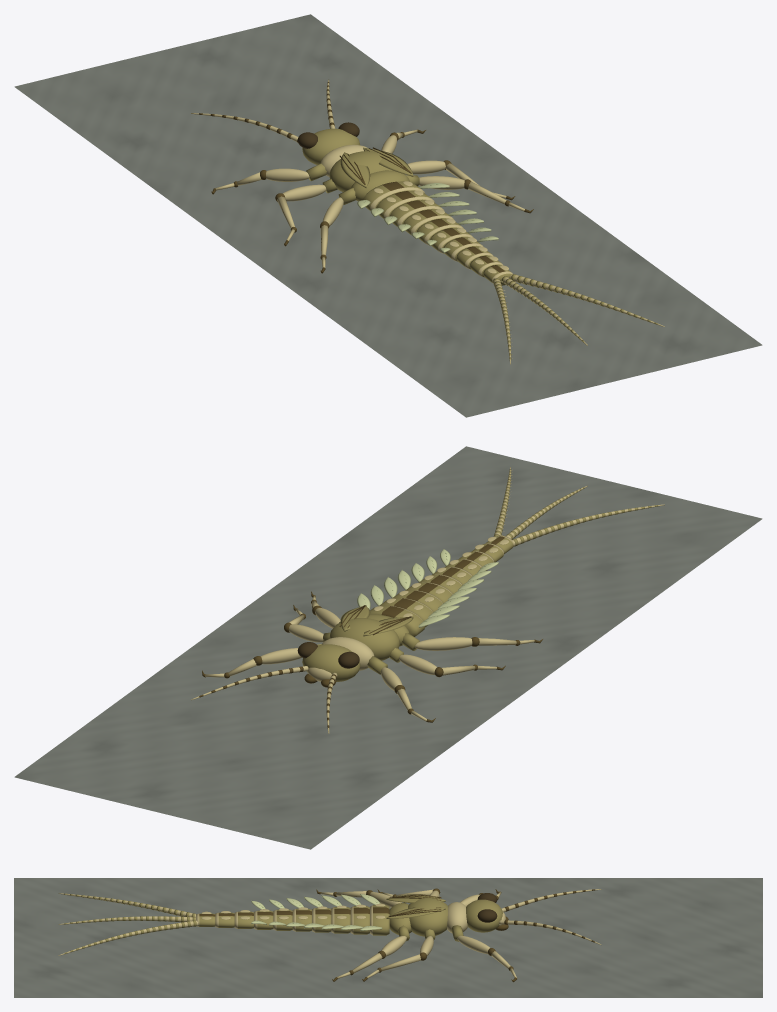
The model's file is Baetis_animat.glb.
The picture shows the model from 3 angles, top to bottom: view 1: azimuth 30°, elevation 25°; view 2: azimuth 150°, elevation 25°; view 3: azimuth 270°, elevation 25°; orthographic projection. The views are drawn at different scales.
Visible parts, largest first — view 1: Superficie_de_suport, torax, pota_1_E.001, cap.003, pota_3_D.001, pota_2_E.001, pota_3_E.001, cerc_D, pota_2_D.001, abdomen_01.002, abdomen_02.002; view 2: Superficie_de_suport, torax, cap.003, pota_3_E.001, pota_2_E.001, pota_1_D.001, pota_1_E.001, cerc_E, pota_2_D.001, abdomen_01.002; view 3: Superficie_de_suport, torax, cap.003, pota_3_D.001, pota_1_D.001, cerc_D, pota_2_D.001, cerc_E, abdomen_01.002, filament_central, abdomen_02.002, abdomen_03.002 (+13 smaller).
Boxes of the visible parts, x1,y1,x2,y2 form: Superficie_de_suport: [14, 14, 762, 417]; torax: [320, 144, 409, 201]; pota_1_E.001: [211, 163, 326, 194]; cap.003: [302, 128, 359, 164]; pota_3_D.001: [406, 175, 533, 213]; pota_2_E.001: [275, 179, 337, 246]; pota_3_E.001: [320, 188, 356, 273]; cerc_D: [509, 274, 664, 326]; pota_2_D.001: [407, 160, 515, 200]; abdomen_01.002: [362, 181, 424, 210]; abdomen_02.002: [376, 190, 434, 218]; Superficie_de_suport: [14, 446, 762, 849]; torax: [321, 614, 409, 670]; cap.003: [302, 644, 360, 682]; pota_3_E.001: [402, 633, 542, 650]; pota_2_E.001: [389, 648, 505, 677]; pota_1_D.001: [202, 644, 321, 678]; pota_1_E.001: [367, 656, 435, 722]; cerc_E: [512, 504, 664, 546]; pota_2_D.001: [284, 605, 330, 642]; abdomen_01.002: [370, 605, 425, 636]; Superficie_de_suport: [14, 878, 762, 997]; torax: [389, 897, 467, 936]; cap.003: [466, 899, 505, 932]; pota_3_D.001: [332, 925, 409, 981]; pota_1_D.001: [451, 925, 517, 982]; cerc_D: [58, 920, 198, 955]; pota_2_D.001: [362, 929, 435, 981]; cerc_E: [58, 893, 195, 916]; abdomen_01.002: [370, 903, 389, 935]; filament_central: [58, 916, 195, 924]; abdomen_02.002: [350, 904, 369, 934]; abdomen_03.002: [331, 905, 350, 933].
Bounding box in the file's own units: 7.2 × 1.01 × 19.
